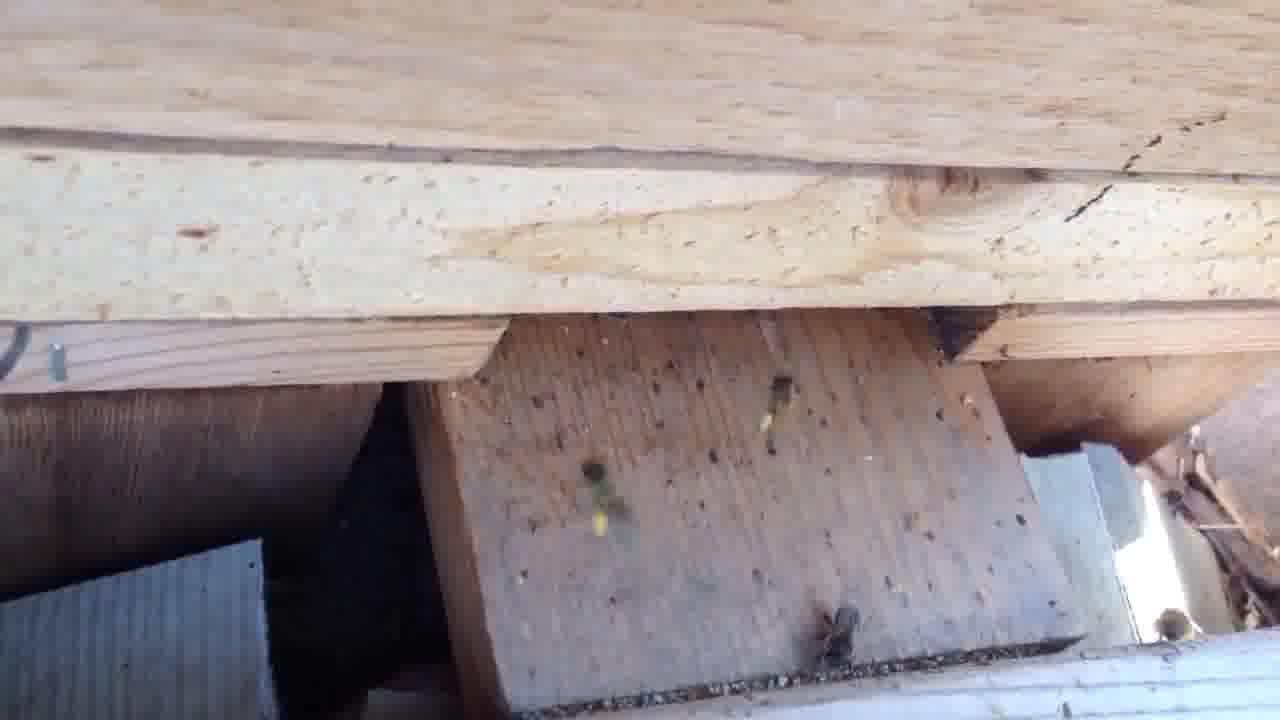pollen: (566, 455, 638, 548), (751, 369, 805, 467)
